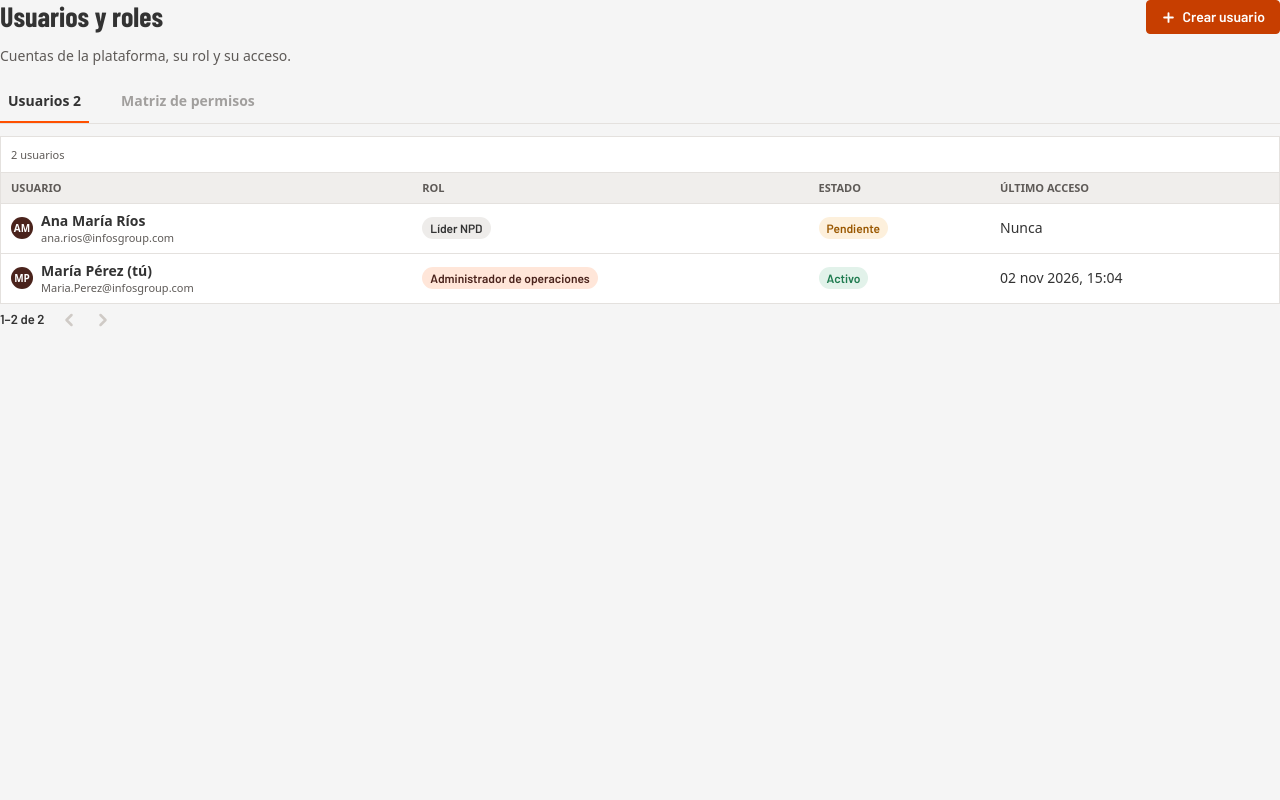
UsuariosPage › closes the drawer with Escape and the close button and returns focus
Expected: the text "2 usuarios" is shown, left=11, top=147, right=64, bottom=162
Click the button "Crear usuario" at (1213, 17), box left=1146, top=0, right=1279, bottom=34
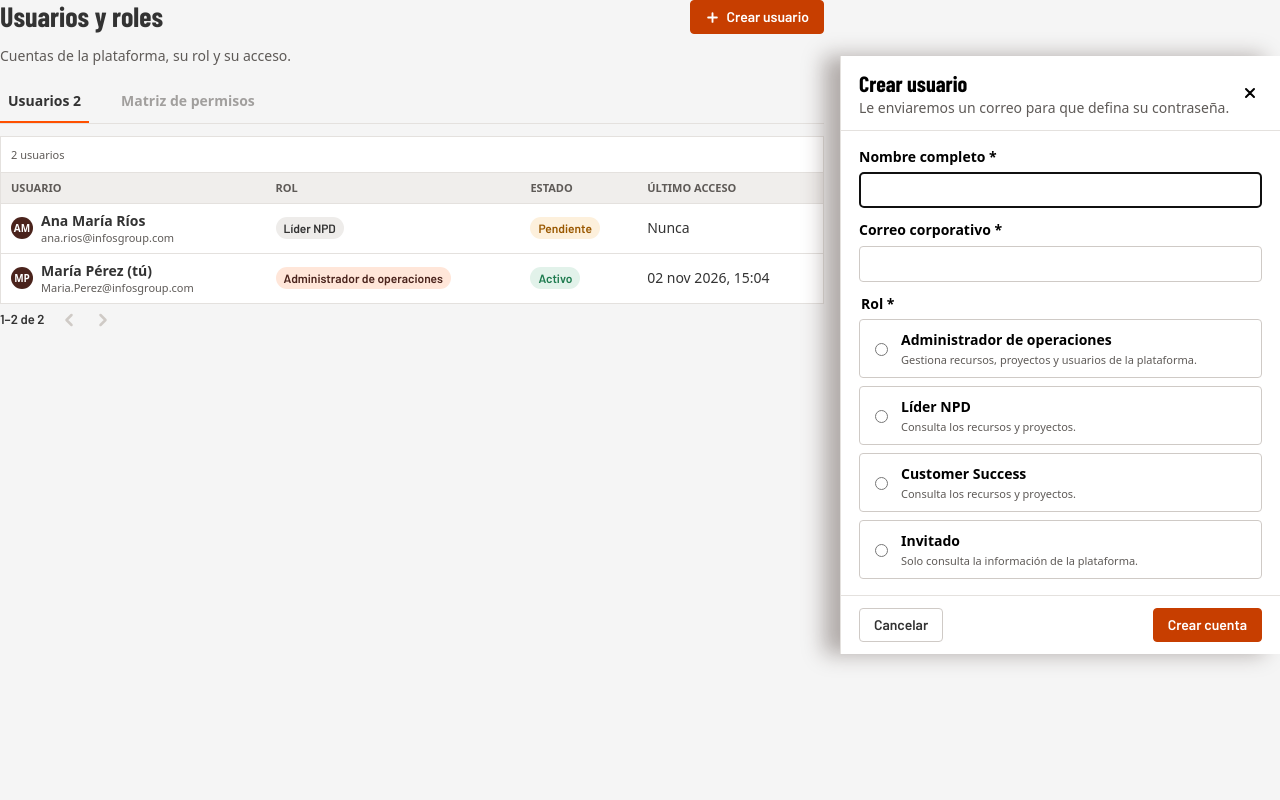
Press Escape
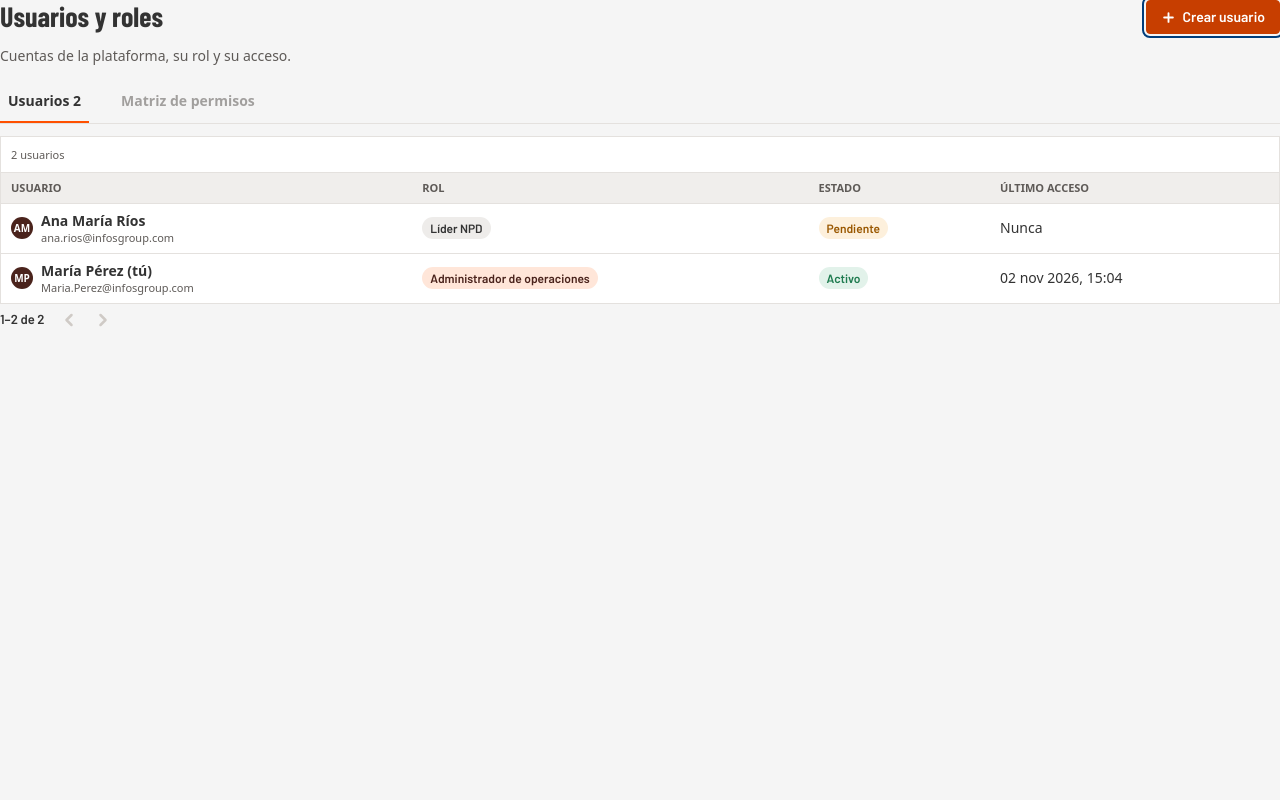
Now the dialog is gone
Click the button "Crear usuario" at (1213, 17), box left=1146, top=0, right=1279, bottom=34
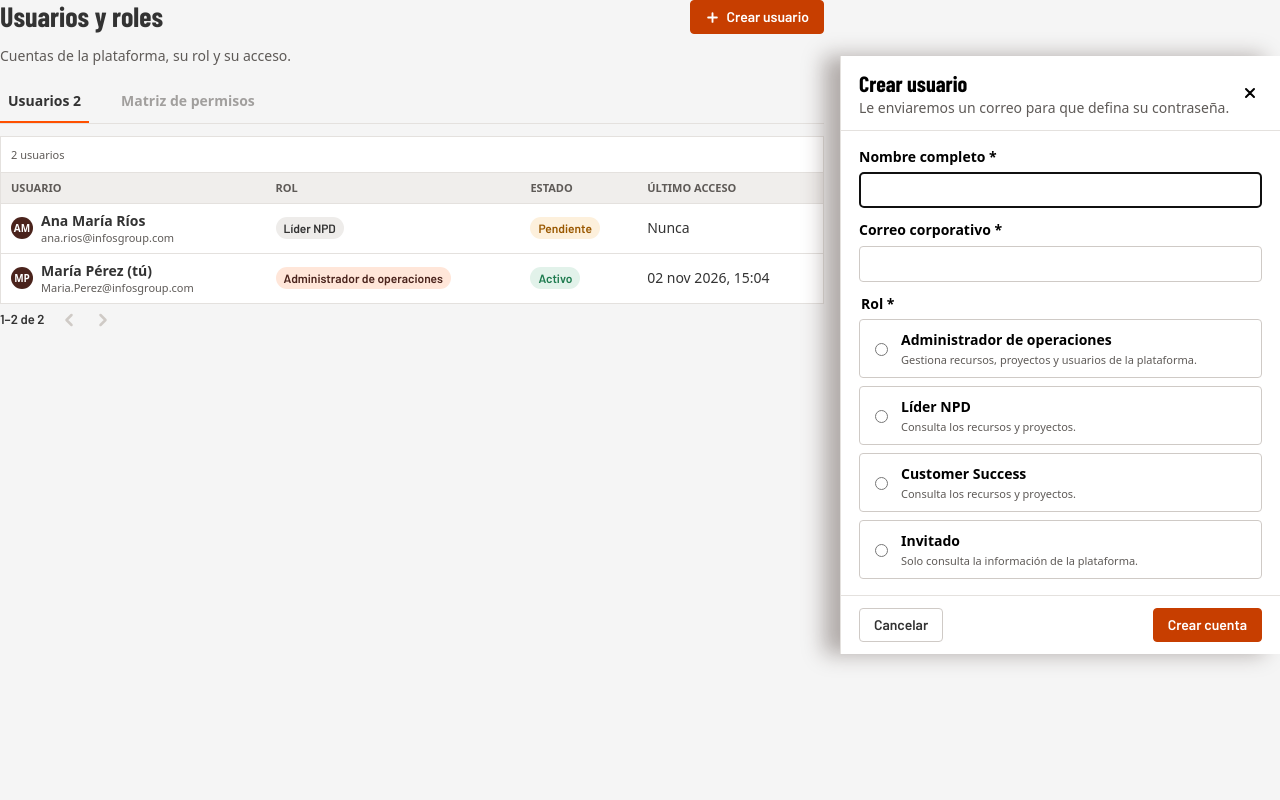
Click the button named "Cerrar" at (1250, 95), box left=1238, top=72, right=1262, bottom=118
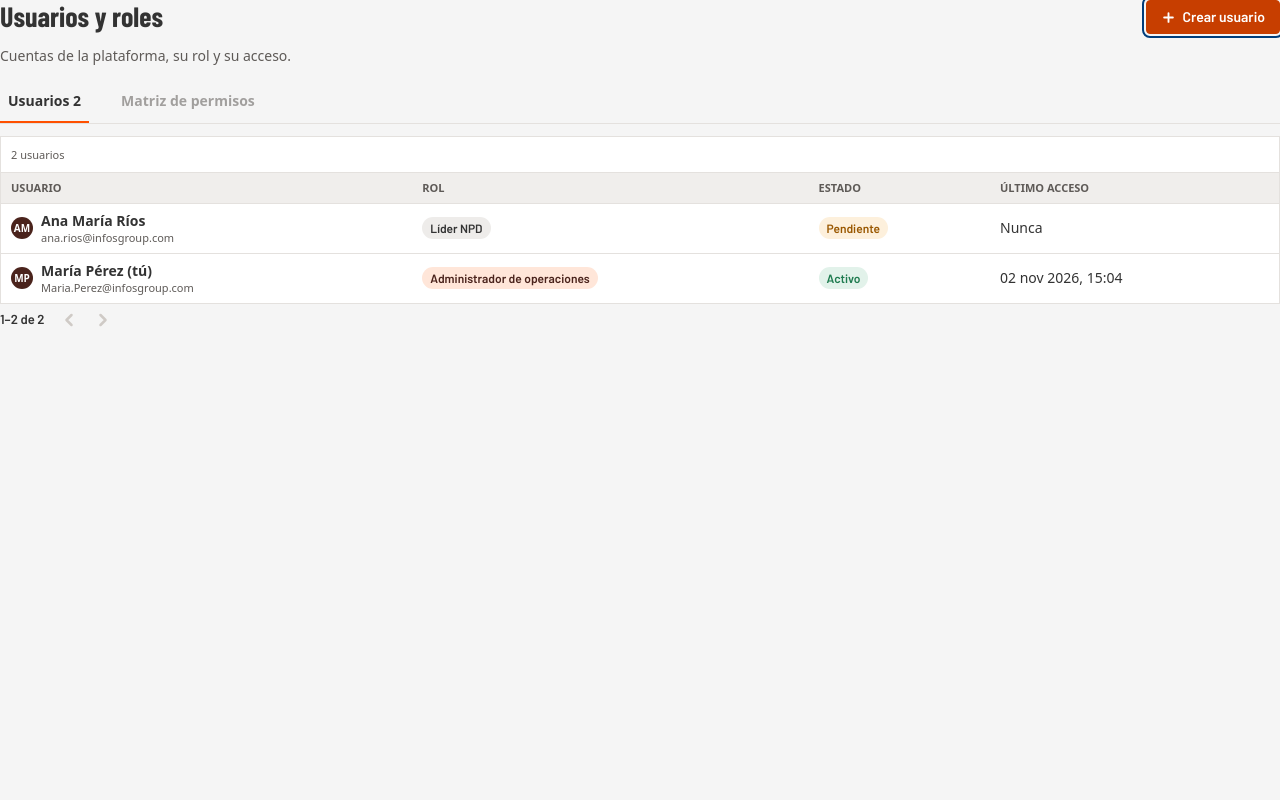
Now the dialog is gone
